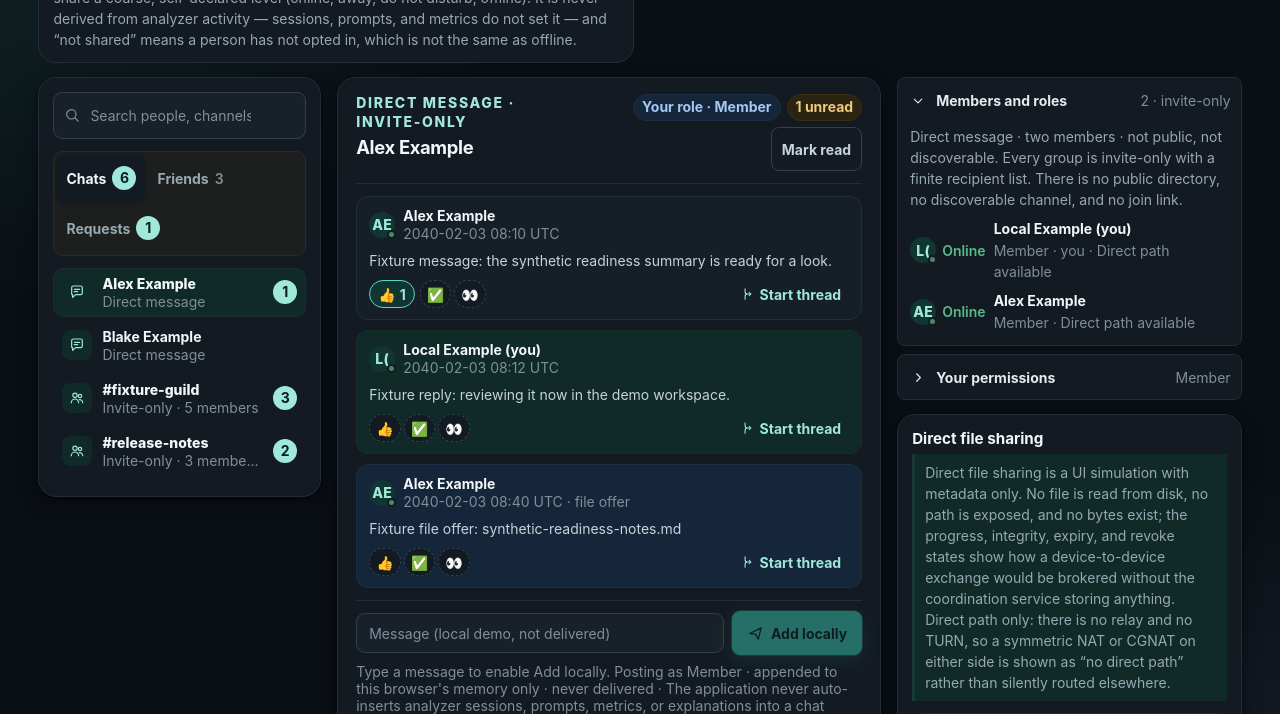
Test: SocialHubPage › switches conversations, marks them read, adds local messages, reactions, and thread replies
The image size is (1280, 714).
Later steps or results of the test are not shown.
(page scrolled)
Click the button "#fixture-guild Invite-only · 5 members 3".
click(180, 398)  # box [53, 374, 306, 423]
(page scrolled)
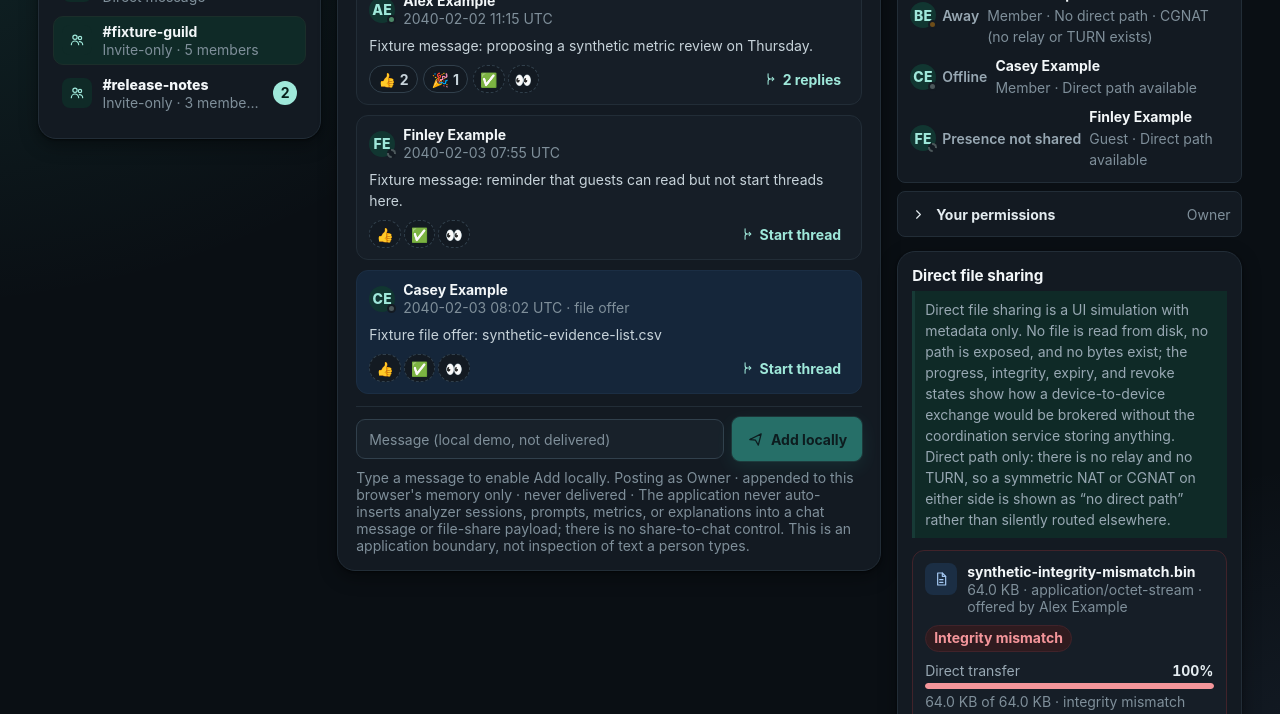
expect the button "Add locally" is disabled: met, box [732, 417, 862, 461]
Type "Fixture local note" into the field labelled "Message (local demo, not delivered)".
click(540, 439); type("Fixture local note")  # box [356, 419, 724, 459]
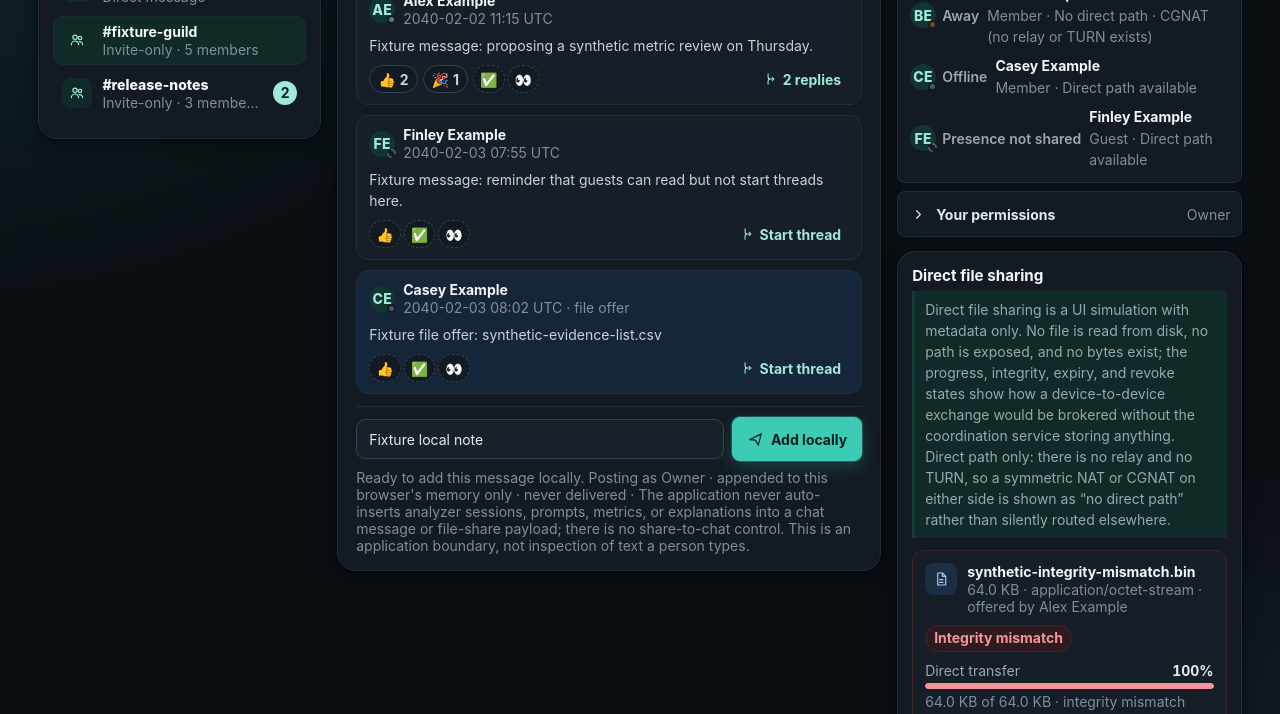
expect the button "Add locally" is enabled: met
Click the button "Add locally".
click(797, 439)  # box [732, 417, 862, 461]
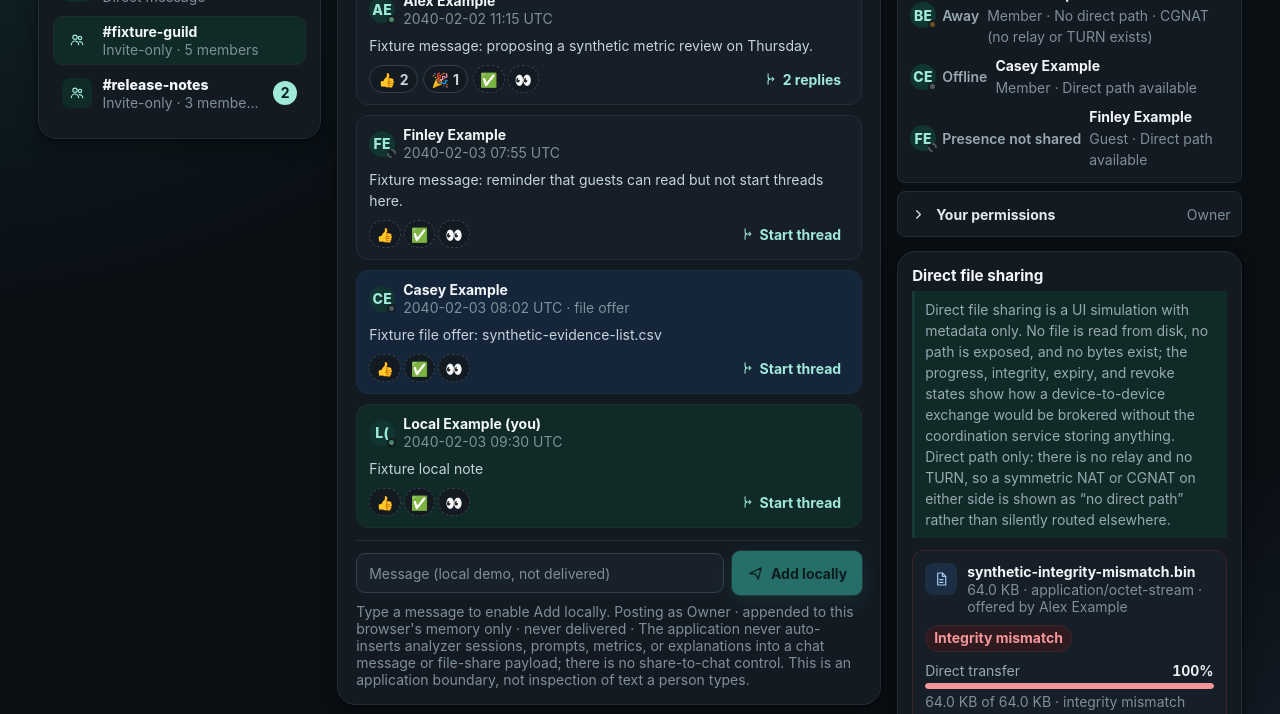
expect the text "Fixture local note" is shown: met, box [369, 460, 483, 477]
Click the button named "thumbs up: 2".
click(393, 79)  # box [369, 65, 418, 93]
(page scrolled)
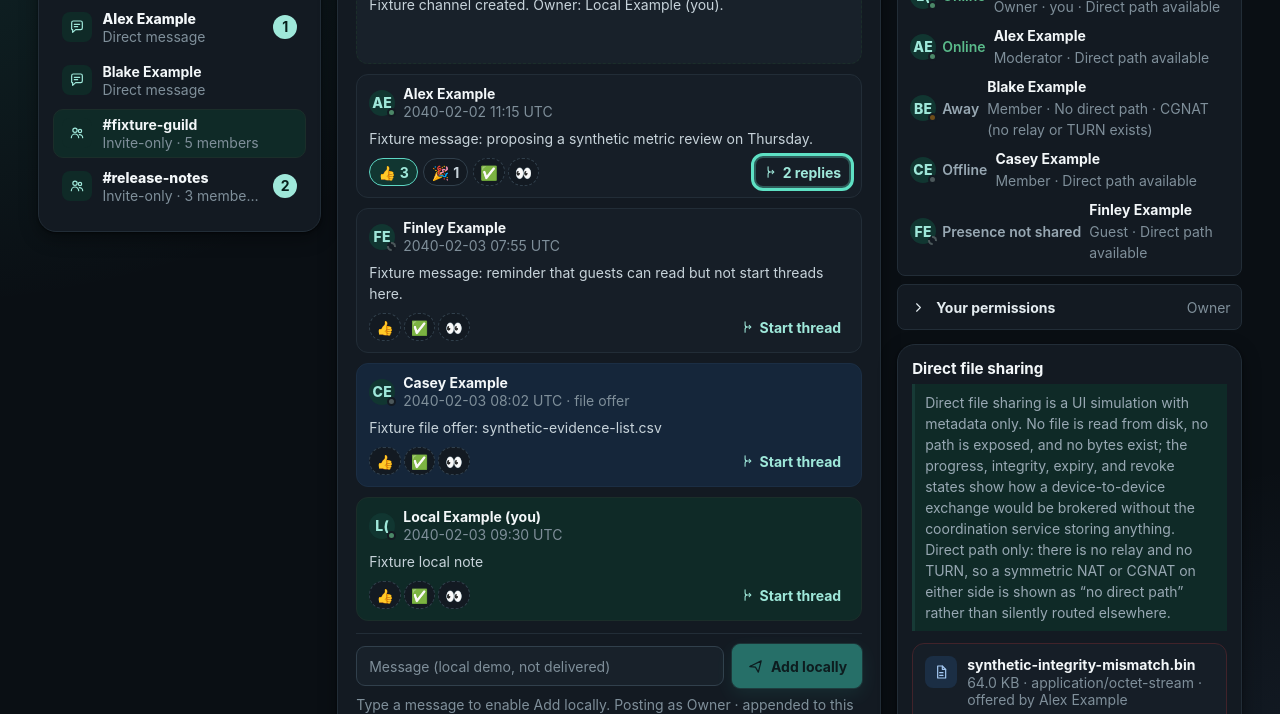
expect the button "👍 3" is pressed: met, box [369, 158, 418, 186]
